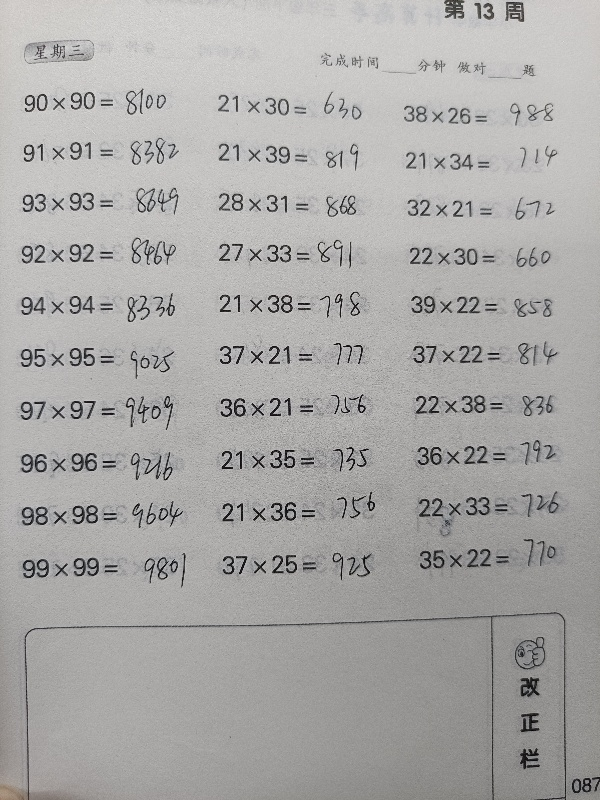equation: (12, 388, 192, 438), (210, 228, 390, 272), (15, 83, 195, 124), (410, 540, 590, 576), (13, 549, 193, 584), (214, 494, 394, 529), (11, 445, 191, 480), (212, 390, 392, 425), (12, 235, 192, 270), (410, 487, 565, 527), (213, 547, 393, 581), (12, 497, 192, 531), (212, 442, 392, 476), (408, 438, 588, 472), (406, 387, 586, 421), (11, 340, 191, 374), (211, 338, 391, 372), (403, 288, 583, 322), (12, 288, 192, 322), (211, 287, 391, 321), (13, 185, 193, 219), (14, 134, 194, 168), (405, 338, 585, 371), (401, 240, 581, 273), (210, 186, 390, 219), (209, 137, 389, 170), (395, 99, 575, 132), (209, 89, 389, 122), (398, 192, 578, 224), (397, 145, 577, 177)
